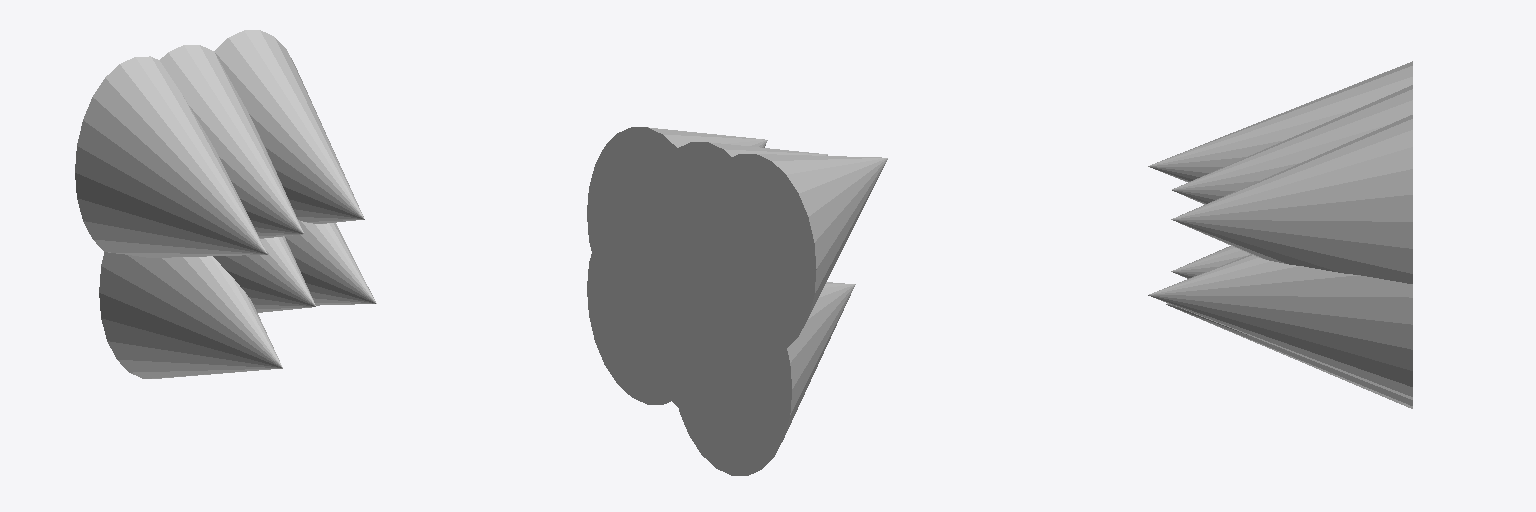
Rendered from grass.obj.
The picture shows the model from 3 angles: view 1: azimuth 30°, elevation 25°; view 2: azimuth 150°, elevation 25°; view 3: azimuth 270°, elevation 25°; orthographic projection.
Parts seen in each view (by area): view 1: obj_0; view 2: obj_0; view 3: obj_0.
Part boxes in pixels (x1,y1,x2,y2): obj_0: (75, 30, 376, 378); obj_0: (587, 127, 887, 475); obj_0: (1148, 61, 1412, 408).
Bounding box in the file's own units: 11 × 15 × 11.